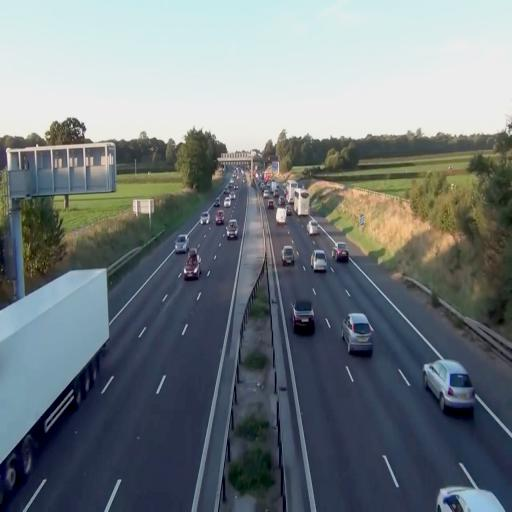vehicle: (423, 357, 475, 413), (436, 471, 507, 512), (436, 484, 507, 512), (342, 312, 374, 356), (291, 301, 315, 333), (183, 250, 201, 280), (312, 250, 328, 273), (334, 244, 350, 264), (282, 244, 296, 266), (226, 218, 238, 240), (175, 234, 188, 252), (276, 206, 286, 226), (216, 210, 224, 226)
